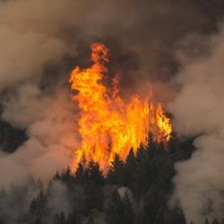fire: (61, 47, 176, 166)
